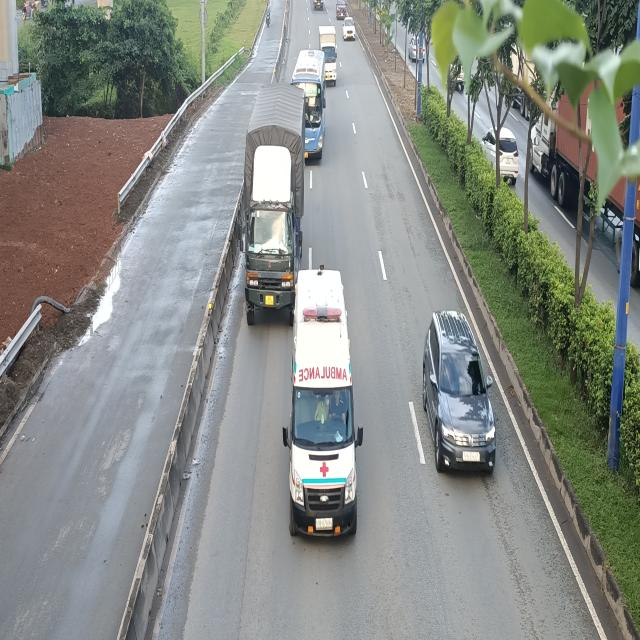car: (422, 307, 495, 471)
coach: (290, 47, 325, 160)
truck: (240, 79, 306, 323), (319, 26, 337, 85)
van: (284, 266, 363, 540)
